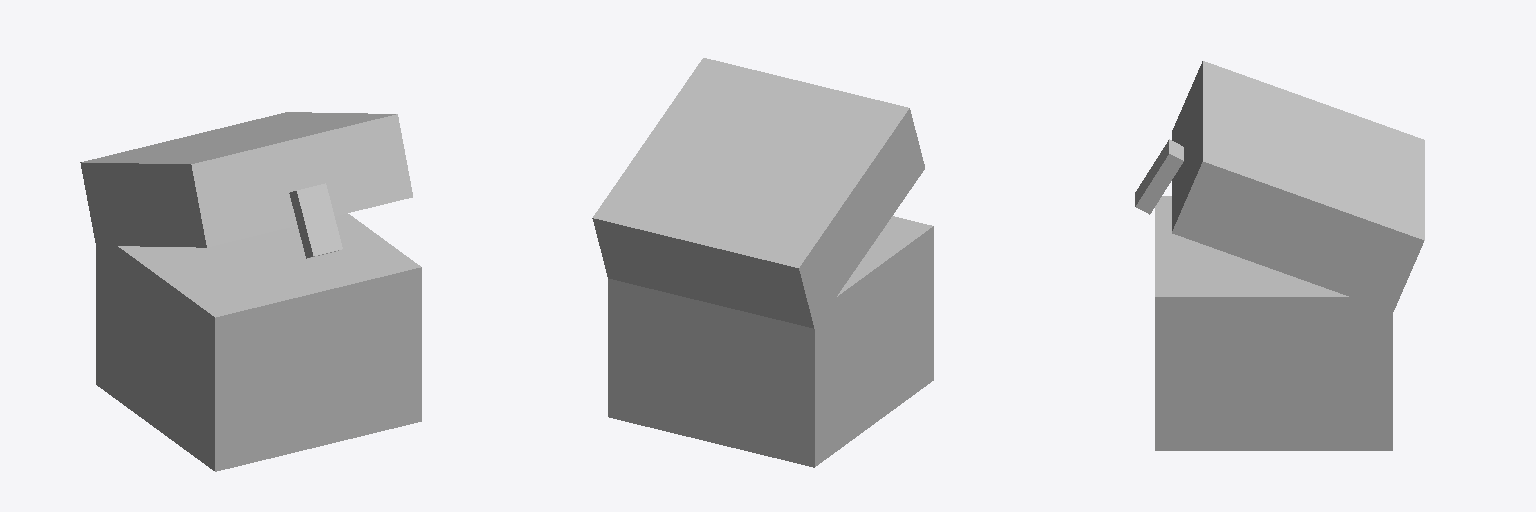
File: model_chestMC.obj
3 views of the same model, side by side, from view 1: azimuth 30°, elevation 25°; view 2: azimuth 150°, elevation 25°; view 3: azimuth 270°, elevation 25° (orthographic).
Visible parts, largest first — view 1: bottom, top, handle; view 2: top, bottom; view 3: bottom, top, handle.
Part boxes in pixels (x1,y1,x2,y2): bottom: (96,213,421,471); top: (80,112,412,247); handle: (289,183,342,258); top: (592,58,924,328); bottom: (608,216,933,467); bottom: (1155,196,1392,450); top: (1172,61,1424,311); handle: (1135,139,1183,214).
Size of the model in its own units: 0.875 by 1.17 by 1.06.